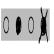correct: (16, 15, 22, 38)
not correct: (39, 6, 48, 44)
